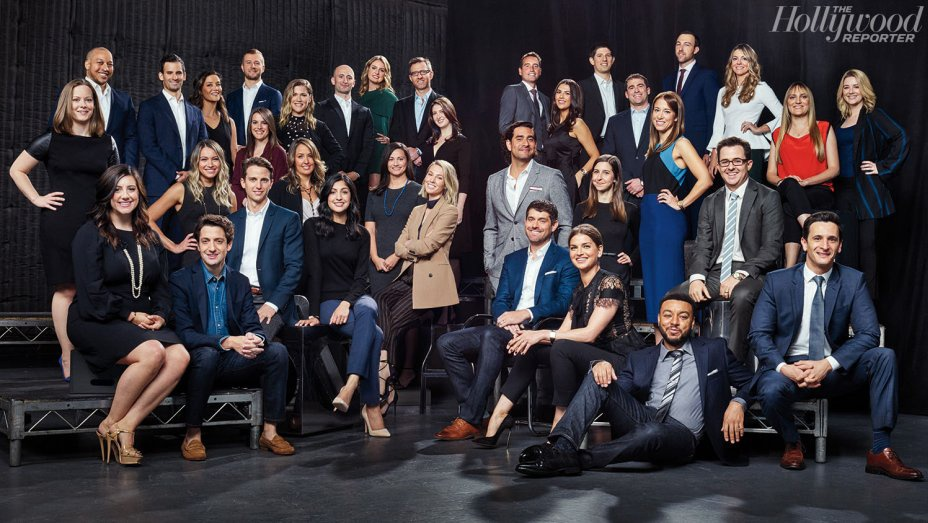bad: (657, 306, 693, 342), (805, 230, 841, 266), (193, 230, 229, 266), (561, 234, 597, 270), (713, 150, 749, 186), (105, 178, 141, 214), (237, 170, 273, 206), (85, 50, 121, 86), (61, 90, 97, 126), (517, 210, 553, 246)
